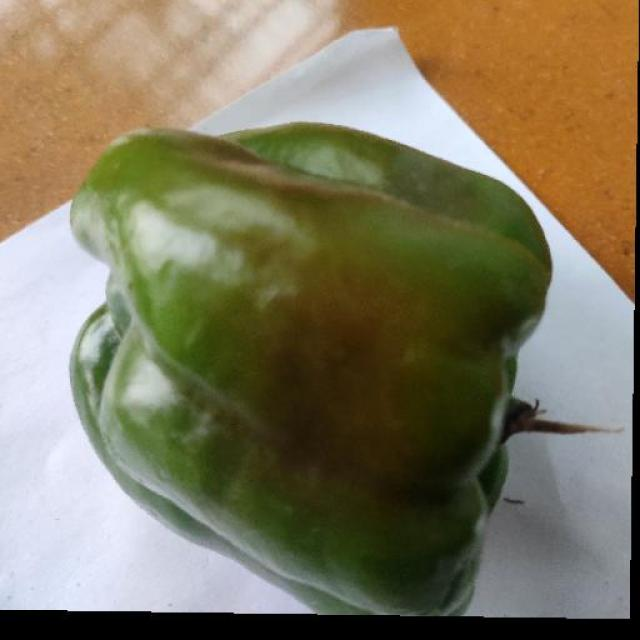Stale_Capsicum: (71, 114, 543, 609)
